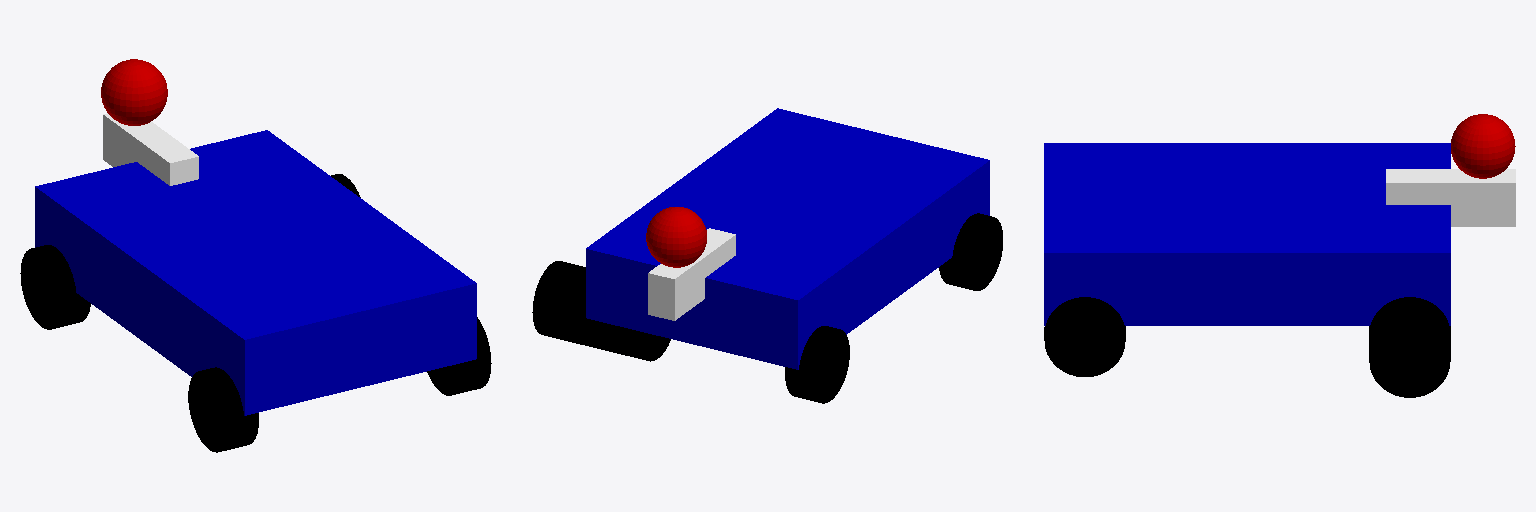
URDF robot description (smartcar):
<?xml version="1.0"?>
<robot name="smartcar">
<!-- material blue and black and white color-->
  <material name="red">  
    <color rgba="0.8 0 0 1"/>  
  </material>    
  <material name="green">  
    <color rgba="0 0.8 0 1"/>  
  </material>  
  <material name="blue">  
    <color rgba="0 0 0.8 1"/>  
  </material>  
  <material name="black">  
    <color rgba="0 0 0 1"/>  
  </material>  
  <material name="white">  
    <color rgba="1 1 1 1"/>  
  </material> 
<!-- 5 link = base_link + 4 wheel + head -->
  <link name="base_link">
    <visual>
      <geometry>
        <box size="0.25 .16 .05"/><!-- x y z size-->
      </geometry>
      <origin rpy="0 0 1.57075" xyz="0 0 0"/><!-- z rote 90-->
      <material name="blue"/>
    </visual>
 </link>
<!--right_front_wheel link-->
 <link name="right_front_wheel">
    <visual>
      <geometry><!-- radius="0.025" 0.25/2=0.125 0.125-0.1=0.025 -->
        <cylinder length=".08" radius="0.025"/><!-- length 0.02 to 0.08-->
      </geometry>
      <material name="black"/>
    </visual>
  </link>
<!--right_front_wheel to base_link joint-->
  <joint name="right_front_wheel_joint" type="continuous">
    <axis xyz="0 0 1"/><!--axis is z rote 90 by y to be x-->
    <parent link="base_link"/>
    <child link="right_front_wheel"/><!--  x_cord = 0.16/2=0.08 --><!-- z_cord = -(0.05)/2 = -0.025 -->
    <origin rpy="0 1.57075 0" xyz="0.08 0.1 -0.03"/><!-- y_cord = (0.25-0.025*2)/2=0.1 -->
    <limit effort="100" velocity="100"/><!--effort:force limit -->
    <joint_properties damping="0.0" friction="0.0"/><!--mo ca zhu ni-->
  </joint>

  <link name="right_back_wheel">
    <visual>
      <geometry>
        <cylinder length=".02" radius="0.025"/>
      </geometry>
      <material name="black"/>
    </visual>
  </link>

  <joint name="right_back_wheel_joint" type="continuous">
    <axis xyz="0 0 1"/><!--axis is z rote 90 by y to be x-->
    <parent link="base_link"/>
    <child link="right_back_wheel"/>
    <origin rpy="0 1.57075 0" xyz="0.08 -0.1 -0.03"/>
    <limit effort="100" velocity="100"/>
    <joint_properties damping="0.0" friction="0.0"/>
 </joint>

 <link name="left_front_wheel">
    <visual>
      <geometry>
        <cylinder length=".02" radius="0.025"/>
      </geometry>
      <material name="black"/>
    </visual>
  </link>

  <joint name="left_front_wheel_joint" type="continuous">
    <axis xyz="0 0 1"/><!--axis is z rote 90 by y to be x-->
    <parent link="base_link"/>
    <child link="left_front_wheel"/>
    <origin rpy="0 1.57075 0" xyz="-0.08 0.1 -0.03"/>
    <limit effort="100" velocity="100"/>
    <joint_properties damping="0.0" friction="0.0"/>
  </joint>

  <link name="left_back_wheel">
    <visual>
      <geometry>
        <cylinder length=".02" radius="0.025"/>
      </geometry>
      <material name="black"/>
    </visual>
  </link>

  <joint name="left_back_wheel_joint" type="continuous">
    <axis xyz="0 0 1"/><!--axis is z rote 90 by y to be x-->
    <parent link="base_link"/>
    <child link="left_back_wheel"/>
    <origin rpy="0 1.57075 0" xyz="-0.08 -0.1 -0.03"/>
    <limit effort="100" velocity="100"/>
    <joint_properties damping="0.0" friction="0.0"/>
  </joint>

  <link name="head">
    <visual>
      <geometry>
        <box size=".02 .08 .03"/><!-- x y z size-->
      </geometry>
      <material name="white"/>
    </visual>
  </link>

  <joint name="tobox" type="fixed">
    <parent link="base_link"/>
    <child link="head"/>
    <origin xyz="0 0.125 0.025"/><!-- center coordinates-->
  </joint>

  <link name="cap">
    <visual>
      <geometry>
        <sphere radius="0.02"/><!-- qiu banjing-->
      </geometry>
      <material name="red"/>
    </visual>
  </link>
  <joint name="tocap" type="fixed">
    <parent link="head"/><!--parent reference coording system-->
    <child link="cap"/>
    <origin xyz="0 0.02 0.035"/>
  </joint>


</robot>

--- Render facts (derived) ---
The picture shows the robot from 3 angles, left to right: view 1: azimuth 30°, elevation 25°; view 2: azimuth 150°, elevation 25°; view 3: azimuth 270°, elevation 25°; orthographic projection.
Model smartcar with 7 links and 6 joints (4 continuous, 2 fixed), rooted at base_link, posed all joints at 0.
Links seen in each view (by area): view 1: base_link, left_back_wheel, head, left_front_wheel, cap, right_back_wheel; view 2: base_link, right_front_wheel, head, left_front_wheel, left_back_wheel, cap; view 3: base_link, right_front_wheel, head, right_back_wheel, cap.
Boxes of the visible links, x1,y1,x2,y2 form: base_link: [35, 130, 476, 415]; left_back_wheel: [188, 367, 258, 452]; head: [103, 113, 198, 185]; left_front_wheel: [20, 245, 90, 329]; cap: [101, 59, 167, 125]; right_back_wheel: [427, 317, 491, 395]; base_link: [586, 108, 989, 369]; right_front_wheel: [532, 261, 670, 361]; head: [648, 228, 735, 320]; left_front_wheel: [785, 326, 849, 403]; left_back_wheel: [939, 213, 1002, 290]; cap: [646, 207, 706, 267]; base_link: [1044, 143, 1450, 325]; right_front_wheel: [1369, 297, 1450, 397]; head: [1386, 169, 1515, 226]; right_back_wheel: [1044, 297, 1125, 376]; cap: [1451, 114, 1515, 178].
Bounding box of the posed robot: 0.21 × 0.29 × 0.135 m (x, y, z).
Geometry: primitives only (box / cylinder / sphere), no mesh files.